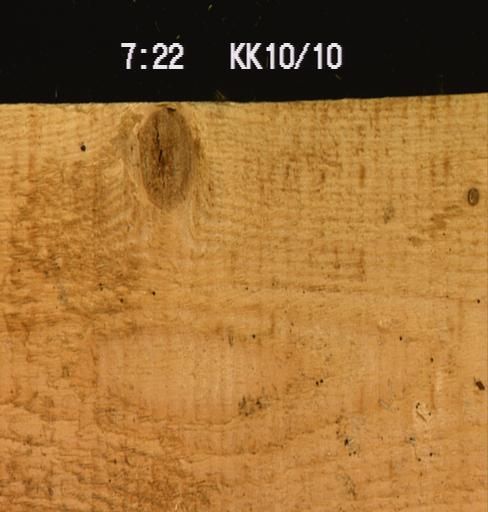dry_knot: (464, 185, 479, 206)
sound_knot: (132, 104, 195, 211)
